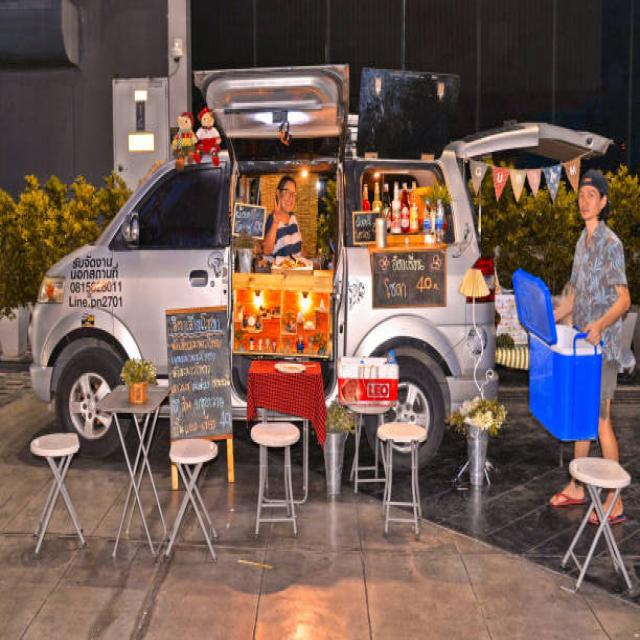Emperan: (18, 42, 636, 500)
